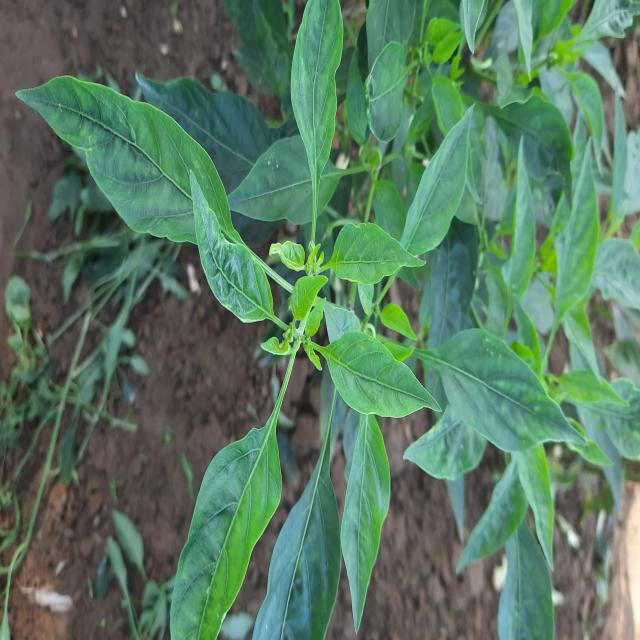sehat: (161, 409, 286, 640), (262, 424, 351, 640), (314, 327, 442, 432), (342, 418, 402, 620)
